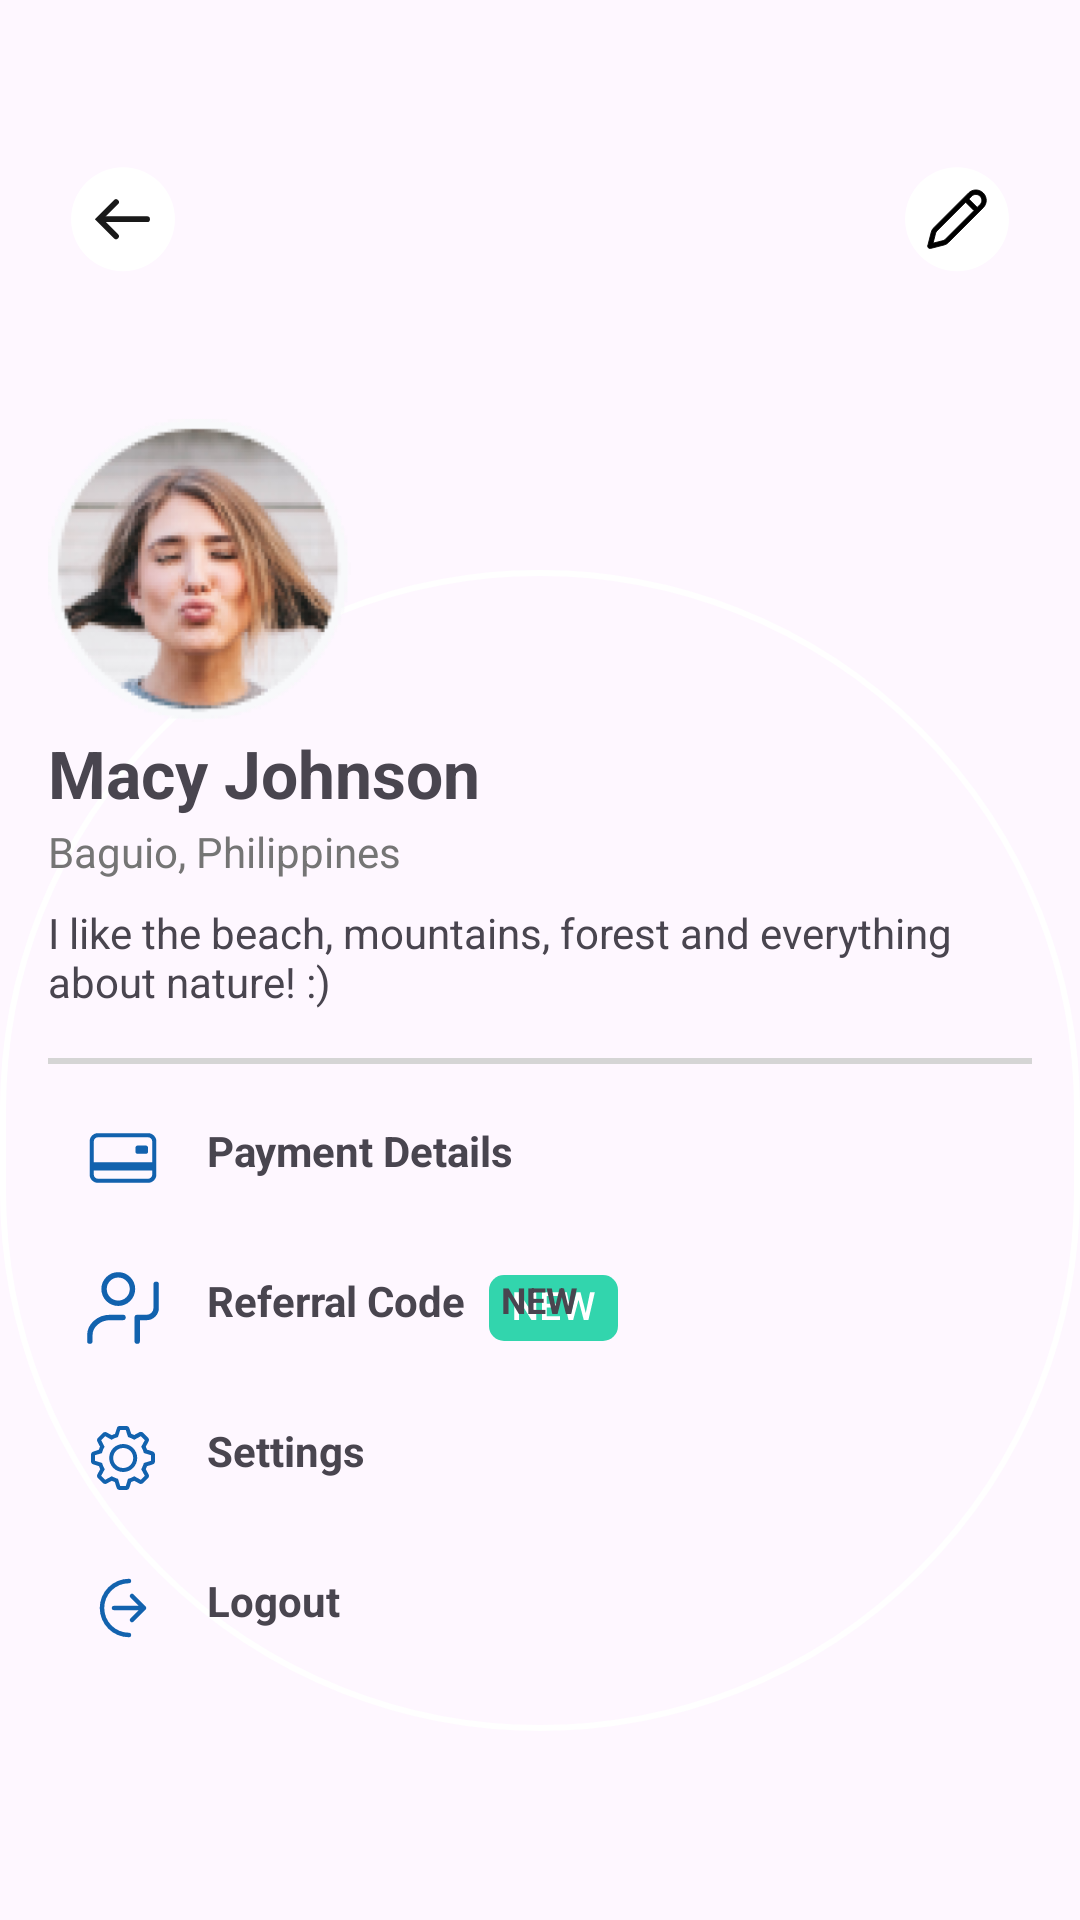

Icon bounding boxes for this 1080x1920 phone screenshot, format bbox(x1, y1, x2, y2):
profile: bbox(58, 428, 338, 711)
profile flecha: bbox(95, 199, 150, 240)
profile lapiz: bbox(927, 189, 987, 249)
